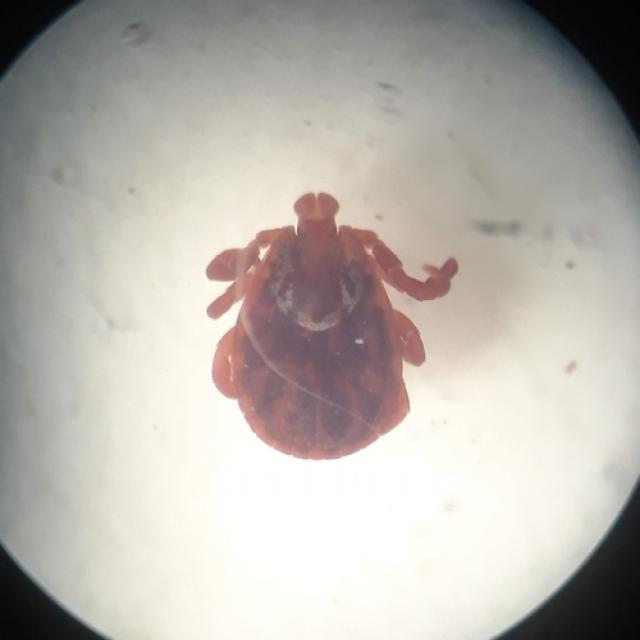Dermacentor Reticulatus-F: (206, 190, 458, 459)
